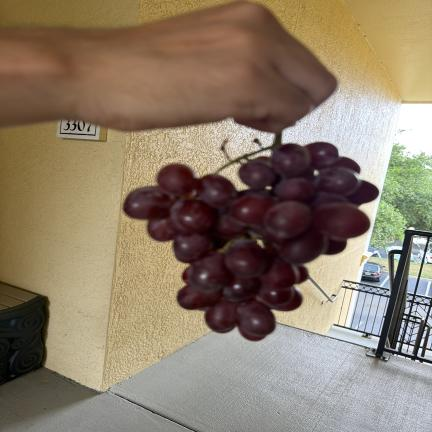grape_cluster: (124, 134, 379, 340)
